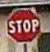stop: (5, 7, 42, 43)
